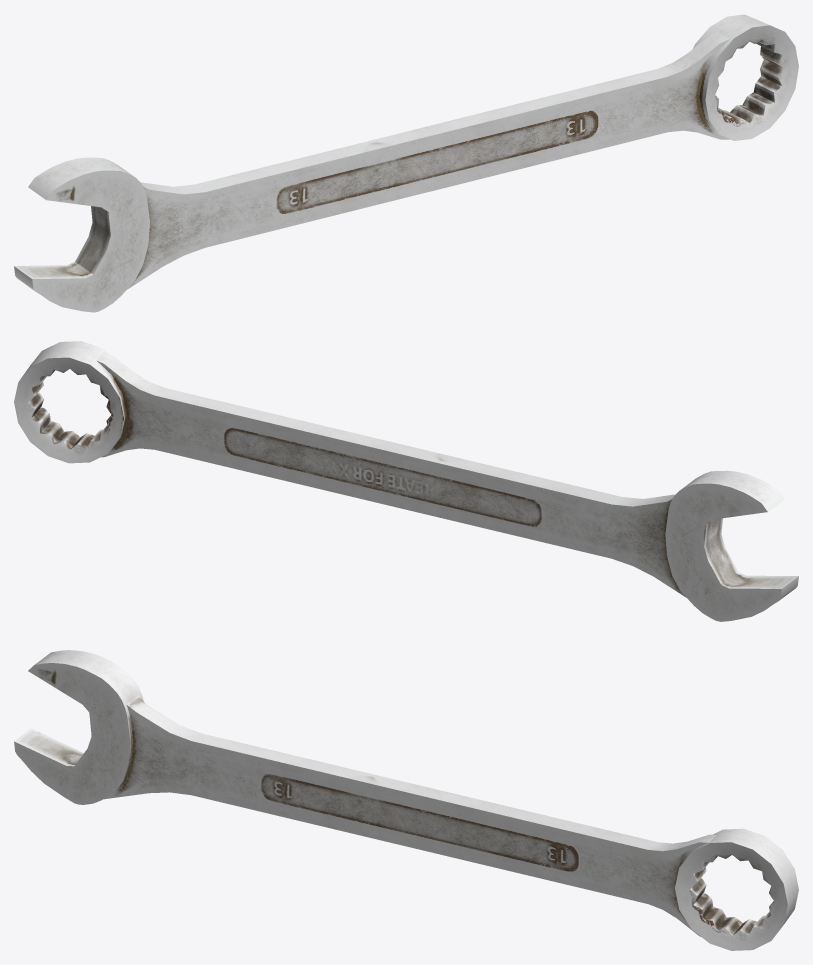
Rendered from combination_wrench.glb.
3 views of the same model, one above another, from view 1: azimuth 30°, elevation 25°; view 2: azimuth 150°, elevation 25°; view 3: azimuth 330°, elevation 25° (orthographic). The views are drawn at different scales.
Parts seen in each view (by area): view 1: combination_wrench.001, combination_wrench, combination_wrench.002; view 2: combination_wrench.001, combination_wrench, combination_wrench.002; view 3: combination_wrench.001, combination_wrench, combination_wrench.002.
Boxes of the visible parts, x1,y1,x2,y2 form: combination_wrench.001: [127, 32, 730, 289]; combination_wrench: [14, 157, 149, 312]; combination_wrench.002: [693, 14, 798, 140]; combination_wrench.001: [96, 352, 686, 597]; combination_wrench: [665, 470, 798, 621]; combination_wrench.002: [14, 341, 126, 463]; combination_wrench.001: [104, 695, 716, 936]; combination_wrench: [14, 650, 143, 804]; combination_wrench.002: [675, 828, 798, 950].
Bounding box in the file's own units: 0.488 × 0.084 × 0.0344.
Materials: 1 (1 with a texture image).
